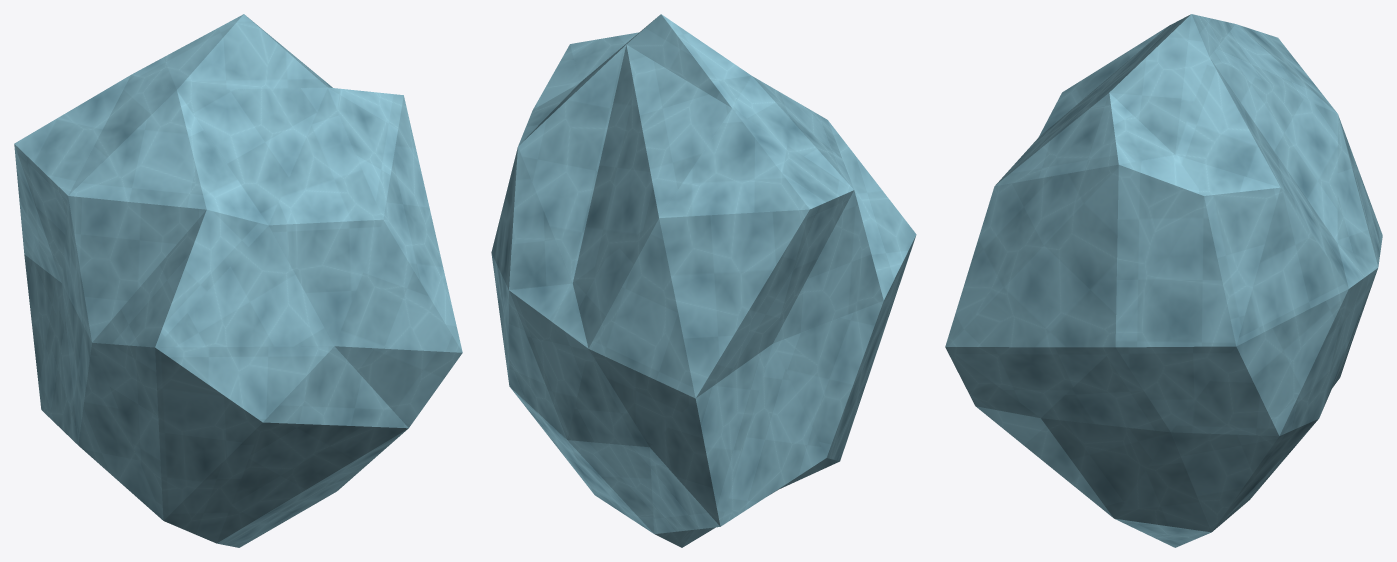
File: iceberg_2.glb
The picture shows the model from 3 angles, left to right: view 1: azimuth 30°, elevation 25°; view 2: azimuth 150°, elevation 25°; view 3: azimuth 270°, elevation 25°; orthographic projection. The views are drawn at different scales.
Visible parts, largest first — view 1: iceberg_2; view 2: iceberg_2; view 3: iceberg_2.
Part boxes in pixels (x1=…): iceberg_2: x1=14, y1=14, x2=462, y2=547; iceberg_2: x1=491, y1=14, x2=916, y2=547; iceberg_2: x1=945, y1=14, x2=1382, y2=547.
Bounding box in the file's own units: 2.74 × 4.14 × 3.04.
1 material, 1 textured.
